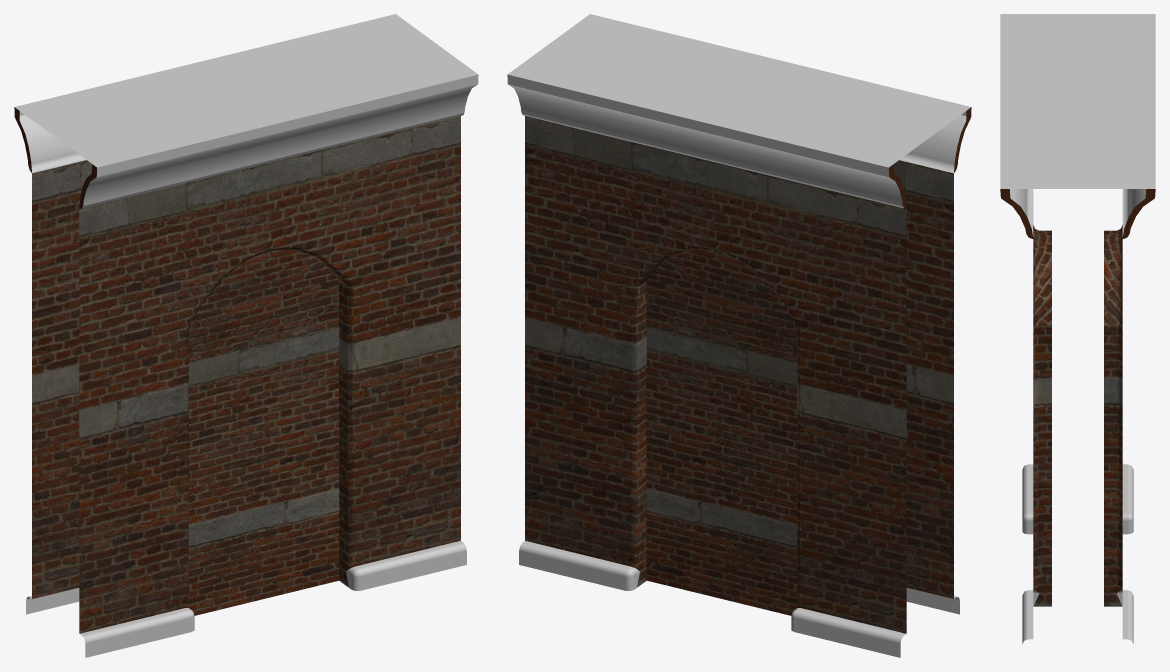
The model's file is msp_tunnel_wall_modular_closed.fbx.
The picture shows the model from 3 angles, left to right: view 1: azimuth 30°, elevation 25°; view 2: azimuth 150°, elevation 25°; view 3: azimuth 270°, elevation 25°; orthographic projection. The views are drawn at different scales.
Visible parts, largest first — view 1: msp_tunnel_wall_modular_closed; view 2: msp_tunnel_wall_modular_closed; view 3: msp_tunnel_wall_modular_closed.
Boxes of the visible parts, x1,y1,x2,y2 form: msp_tunnel_wall_modular_closed: (14,14,478,657); msp_tunnel_wall_modular_closed: (507,14,971,657); msp_tunnel_wall_modular_closed: (1000,14,1155,643).
Bounding box in the file's own units: 4 × 5 × 1.5.
